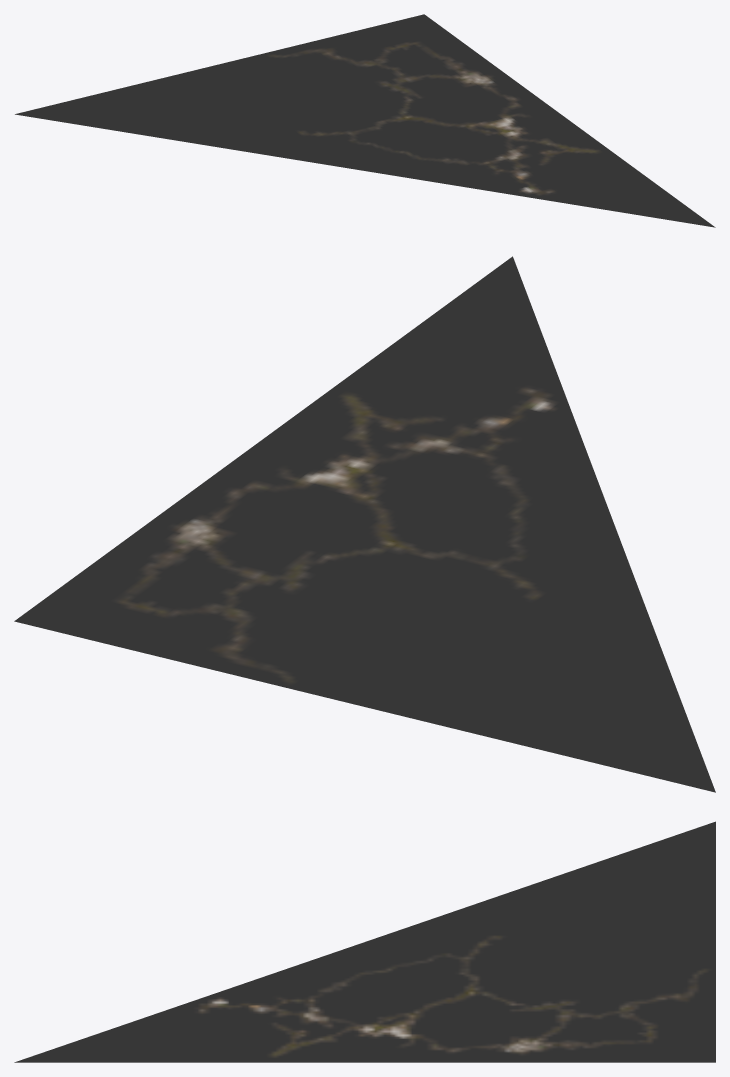
Rendered from Decal_Cracks_C.fbx.
3 views of the same model, one above another, from view 1: azimuth 30°, elevation 25°; view 2: azimuth 150°, elevation 25°; view 3: azimuth 270°, elevation 25° (orthographic). The views are drawn at different scales.
Parts seen in each view (by area): view 1: Decal_Cracks_C; view 2: Decal_Cracks_C; view 3: Decal_Cracks_C.
Part boxes in pixels (<box>): Decal_Cracks_C: <box>15,14,715,227</box>; Decal_Cracks_C: <box>14,256,715,792</box>; Decal_Cracks_C: <box>14,821,715,1062</box>.
Size of the model in its own units: 390 by 2.1e-05 by 480.
